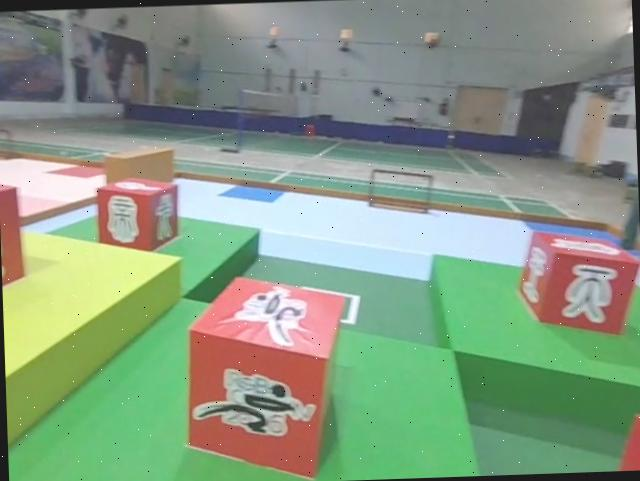R1: (181, 270, 352, 481)
R2 Fake: (516, 224, 640, 339), (96, 176, 181, 254), (0, 170, 23, 315)
